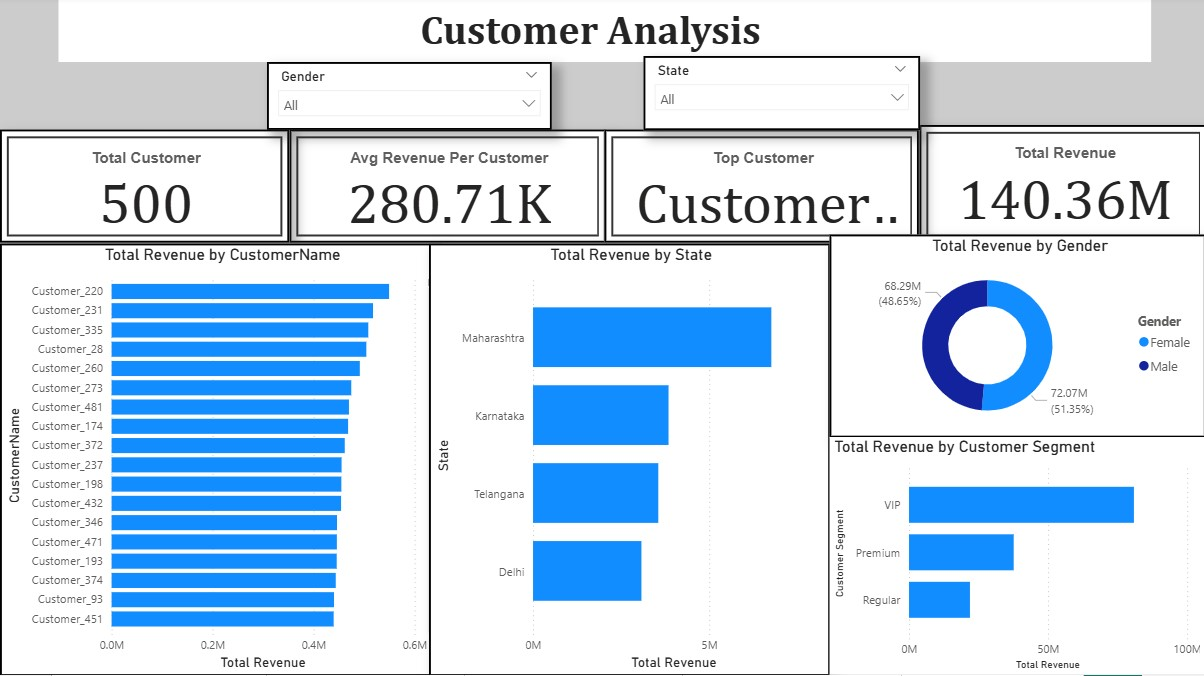

The page's visual inventory and layout, read from the dashboard file:
{"tool":"powerbi","page":{"name":"Customer Analytics","canvas":[1280,720],"ordinal":2},"visuals":[{"type":"cardVisual","fields":{"Data":["Fact_Sales.Total Revenue"]},"box":[975,136.7,305,125],"z":0},{"type":"cardVisual","fields":{"Data":["Fact_Sales.Avg Revenue Per Customer"]},"box":[306.7,141.7,335,120],"z":1000},{"type":"cardVisual","fields":{"Data":["Fact_Sales.Total Customer"]},"box":[0,141.7,306.7,120],"z":2000},{"type":"cardVisual","fields":{"Data":["Fact_Sales.Top Customer"]},"box":[641.7,141.7,333.3,120],"z":3000},{"type":"barChart","fields":{"Y":["Fact_Sales.Total Revenue"],"Category":["Dim_Customers.CustomerName"]},"box":[0,261.7,468.3,458.3],"z":4000},{"type":"textbox","box":[62.4,0,1158.4,69.9],"z":5000},{"type":"clusteredBarChart","fields":{"Y":["Fact_Sales.Total Revenue"],"Category":["Dim_Customers.State"]},"box":[455,261.7,425,458.3],"z":6000},{"type":"donutChart","fields":{"Y":["Fact_Sales.Total Revenue"],"Category":["Dim_Customers.Gender"]},"box":[880,253.3,400,215],"z":7000},{"type":"slicer","fields":{"Values":["Dim_Customers.Gender"]},"box":[283.3,70,301.7,71.7],"z":8000},{"type":"slicer","fields":{"Values":["Dim_Customers.State"]},"box":[681.7,63.3,293.3,78.3],"z":9000},{"type":"clusteredBarChart","fields":{"Category":["Fact_Sales.Customer Segment"],"Y":["Fact_Sales.Total Revenue"]},"box":[880,468.3,400,251.7],"z":10000}]}

Visuals, with their boxes in screenshot pixels (x1, y1, x2, y2), scaled from the page's 1280x720 canvas onto the 1204x676 screenshot:
cardVisual - Fact_Sales.Total Revenue: crop(917, 128, 1203, 246)
cardVisual - Fact_Sales.Avg Revenue Per Customer: crop(288, 133, 604, 246)
cardVisual - Fact_Sales.Total Customer: crop(0, 133, 288, 246)
cardVisual - Fact_Sales.Top Customer: crop(604, 133, 917, 246)
barChart - Fact_Sales.Total Revenue x Dim_Customers.CustomerName: crop(0, 246, 440, 675)
textbox: crop(59, 0, 1148, 66)
clusteredBarChart - Fact_Sales.Total Revenue x Dim_Customers.State: crop(428, 246, 828, 675)
donutChart - Fact_Sales.Total Revenue x Dim_Customers.Gender: crop(828, 238, 1203, 440)
slicer - Dim_Customers.Gender: crop(266, 66, 550, 133)
slicer - Dim_Customers.State: crop(641, 59, 917, 133)
clusteredBarChart - Fact_Sales.Customer Segment x Fact_Sales.Total Revenue: crop(828, 440, 1203, 675)
